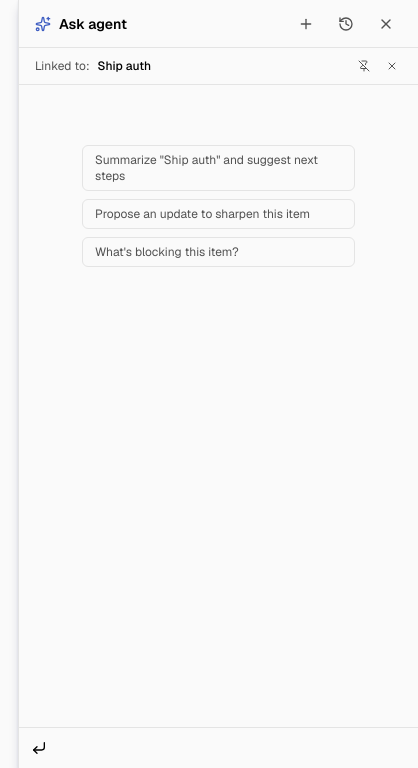
Test: AgentChatPanel › shows the linked chip and unlinks on click
The width and height of the screenshot is (418, 768).
Expected: the text "Linked to:" is shown, [35,58,90,74]
Expected: the text "Ship auth" is shown, [98,58,151,74]
Click the button named "Unlink".
click(392, 66)  # box [382,56,402,76]
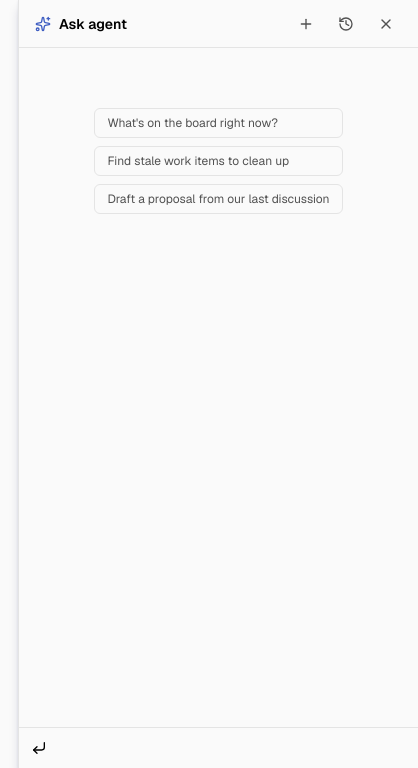
Now the text "Linked to:" is gone
